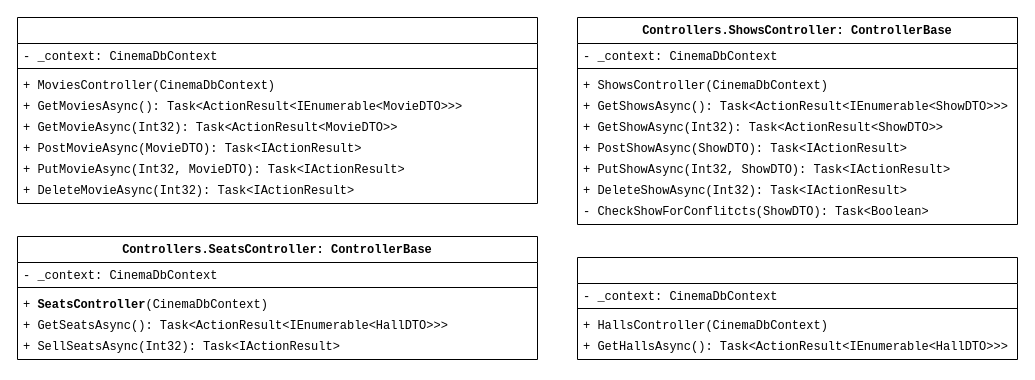
This 1035x380 diagram has some shape labels left out. The box of each missing label's shape, as (x1, y1, x2, y2) in pixels:
Controllers.HallsController: ControllerBase: (576, 256, 1018, 360)
Controllers.MoviesController: ControllerBase: (16, 16, 538, 204)
